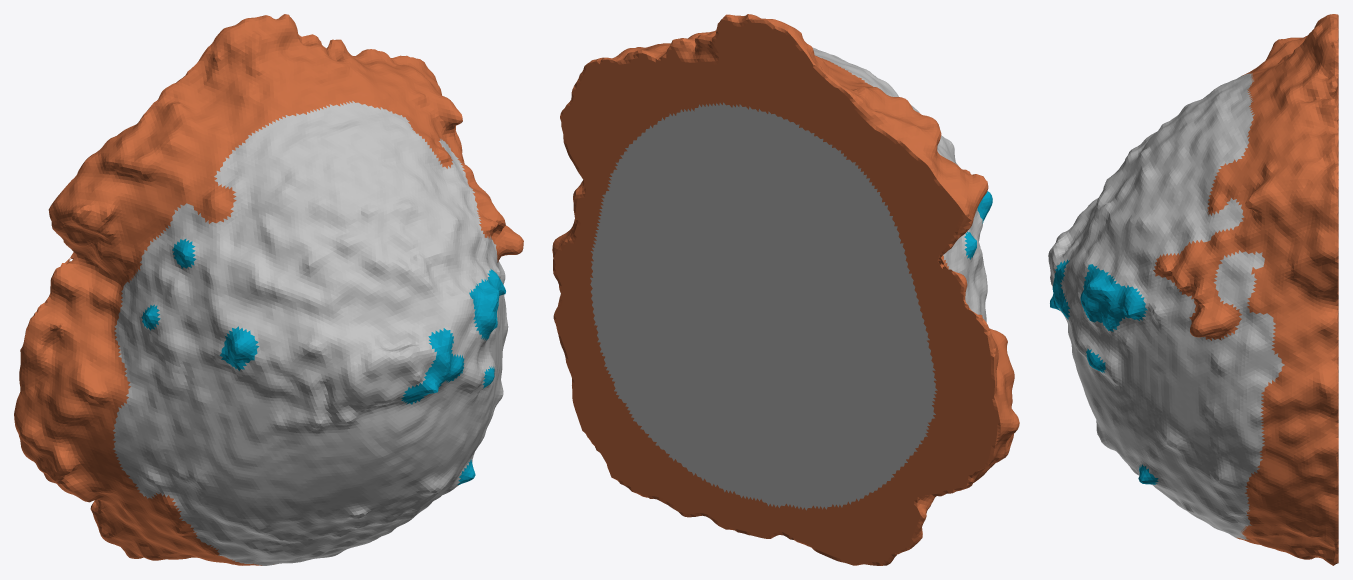
The picture shows the model from 3 angles, left to right: view 1: azimuth 30°, elevation 25°; view 2: azimuth 150°, elevation 25°; view 3: azimuth 270°, elevation 25°; orthographic projection. The views are drawn at different scales.
Bounding box in the file's own units: 110 × 120 × 62.99.
